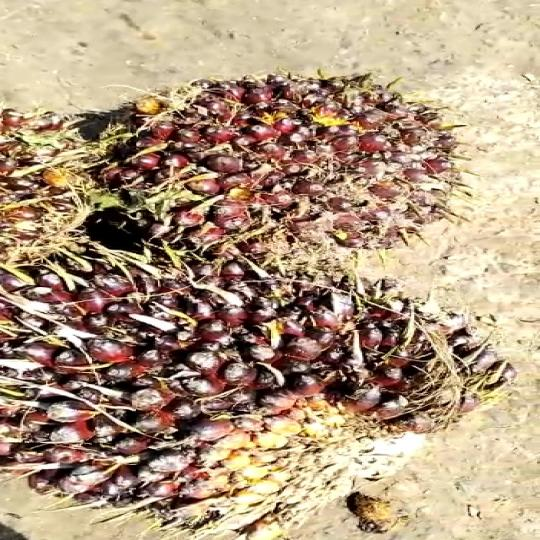kurang masak: (0, 236, 519, 528), (127, 73, 524, 267), (0, 91, 129, 290)
